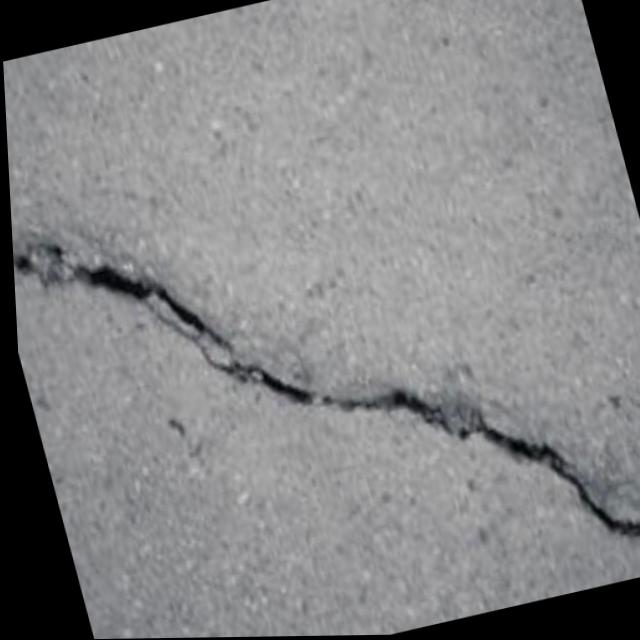Crack: (3, 71, 640, 640)
